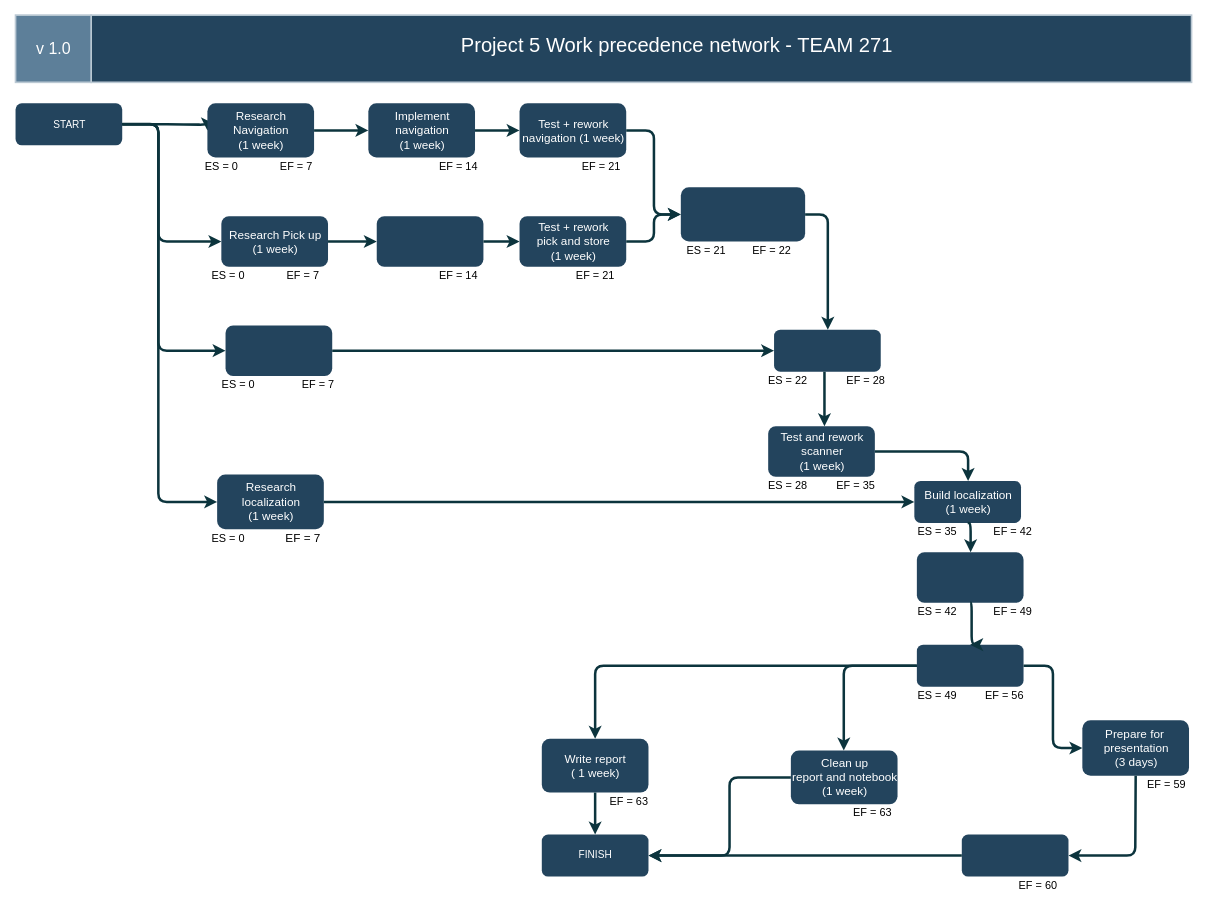
This 1206x908 diagram has some shape labels left out. Here are the shapes that lost their labels. From the top down, the box of each, then its label:
(680, 187, 805, 241): Combine navigation & pick and store (1 day)
(376, 216, 483, 266): Build pick and store system (1 week)
(225, 325, 332, 375): Research scanner (1 week)
(774, 329, 880, 371): Build scanner (6 days)
(916, 552, 1023, 602): Test and rework localization ( 1 week )
(916, 644, 1023, 686): Final test/rework ( 1 week )
(961, 834, 1068, 876): Give presentation (1 day)
